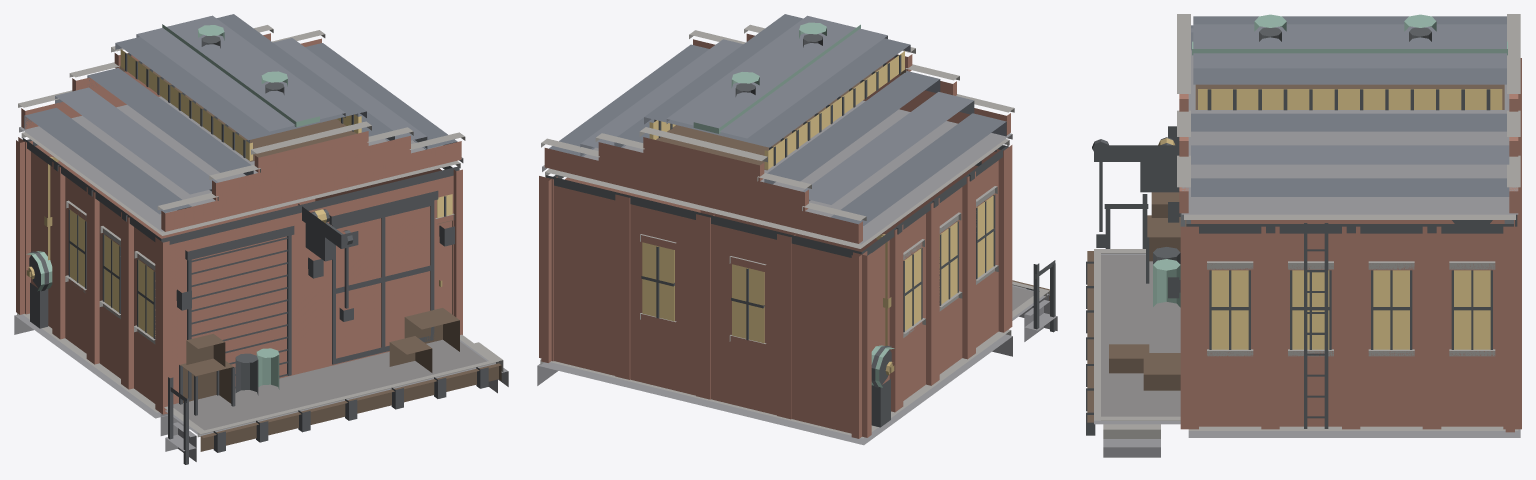
File: warehouse_4x4.glb
3 renders of one model, left to right at view 1: azimuth 30°, elevation 25°; view 2: azimuth 150°, elevation 25°; view 3: azimuth 270°, elevation 25°, orthographic. The views are drawn at different scales.
Parts seen in each view (by area): view 1: Brick_Terracotta_Lower, Metal_CastIron, Roof_SlateDark, Roof_SlateMid, Timber_DarkOak, Stone_Curb, Stone_Plinth, Cobble_Dark, Emissive_GasWindow, Metal_VerdigrisCopper, Metal_BrassPipe; view 2: Brick_Terracotta_Lower, Roof_SlateDark, Roof_SlateMid, Stone_Plinth, Emissive_GasWindow, Metal_CastIron, Stone_Curb, Timber_DarkOak, Metal_VerdigrisCopper; view 3: Brick_Terracotta_Lower, Stone_Plinth, Roof_SlateDark, Roof_SlateMid, Emissive_GasWindow, Metal_CastIron, Stone_Curb, Cobble_Dark, Timber_DarkOak, Metal_VerdigrisCopper.
Boxes of the visible parts, x1,y1,x2,y2 form: Brick_Terracotta_Lower: (16,33,462,414); Metal_CastIron: (22,35,488,464); Roof_SlateDark: (24,14,457,214); Roof_SlateMid: (55,15,427,194); Timber_DarkOak: (119,61,501,451); Stone_Curb: (17,25,503,437); Stone_Plinth: (14,96,508,461); Cobble_Dark: (173,339,486,430); Emissive_GasWindow: (69,49,452,337); Metal_VerdigrisCopper: (26,24,319,389); Metal_BrassPipe: (26,156,442,286); Brick_Terracotta_Lower: (539,33,1012,438); Roof_SlateDark: (549,14,1006,225); Roof_SlateMid: (580,15,974,204); Stone_Plinth: (537,100,1057,445); Emissive_GasWindow: (642,51,994,343); Metal_CastIron: (546,34,1055,427); Stone_Curb: (540,24,1049,438); Timber_DarkOak: (656,65,1049,300); Metal_VerdigrisCopper: (693,22,894,387); Brick_Terracotta_Lower: (1179,58,1521,432); Stone_Plinth: (1094,50,1520,457); Roof_SlateDark: (1191,16,1509,196); Roof_SlateMid: (1191,24,1509,164); Emissive_GasWindow: (1198,89,1502,349); Metal_CastIron: (1086,27,1517,435); Stone_Curb: (1094,14,1520,438); Cobble_Dark: (1101,255,1180,416); Timber_DarkOak: (1087,84,1504,422); Metal_VerdigrisCopper: (1153,14,1507,307).
Bounding box in the file's own units: 3.82 × 3.36 × 3.78.
